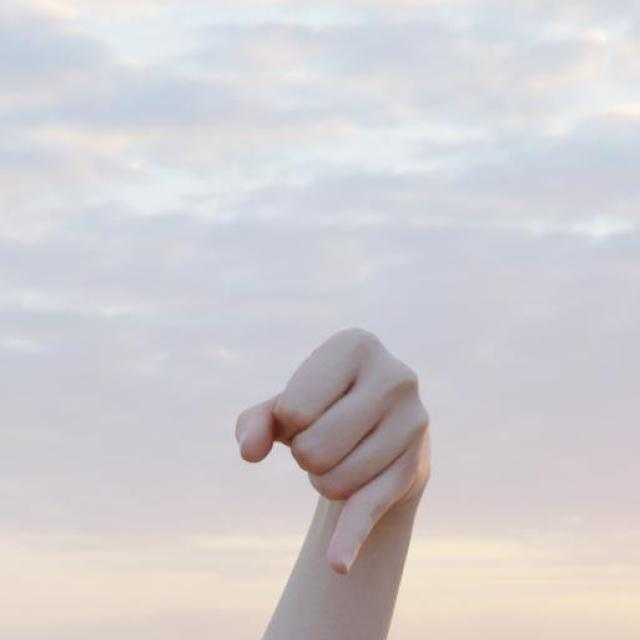J: (232, 323, 434, 579)
